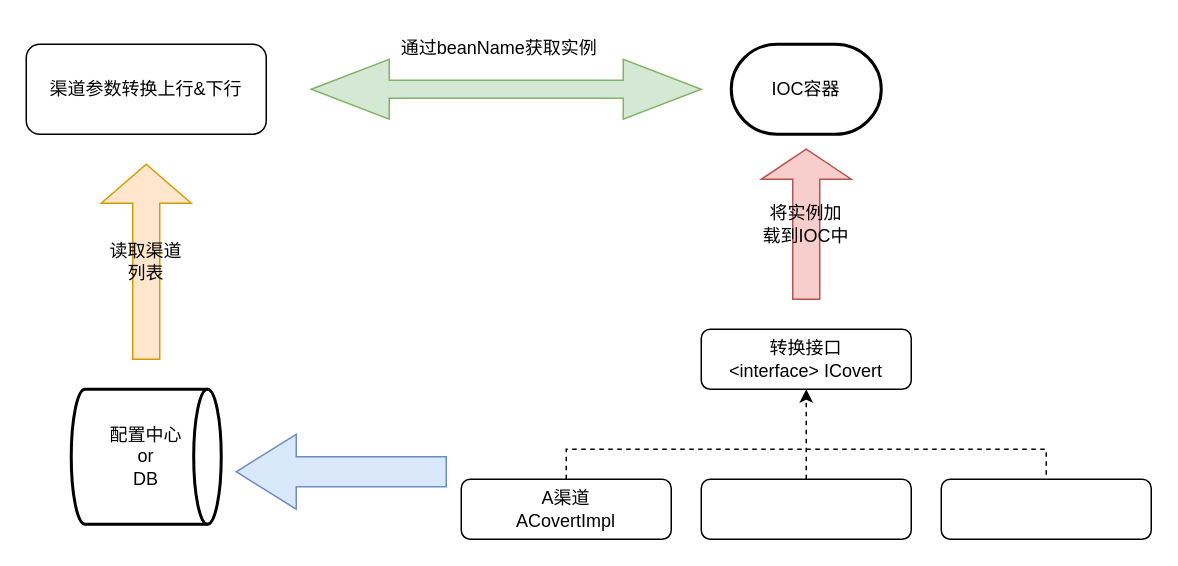
Some shapes in this 1178 by 566 pixel diagram are drawn without their labels. Here are the shapes that lost their labels. From the top down, the centre of each, then its label:
At (x=340, y=471): "保存渠道列表".
At (x=805, y=508): "B渠道 BCovertImpl".
At (x=1045, y=508): "C渠道 CCovertImpl".
